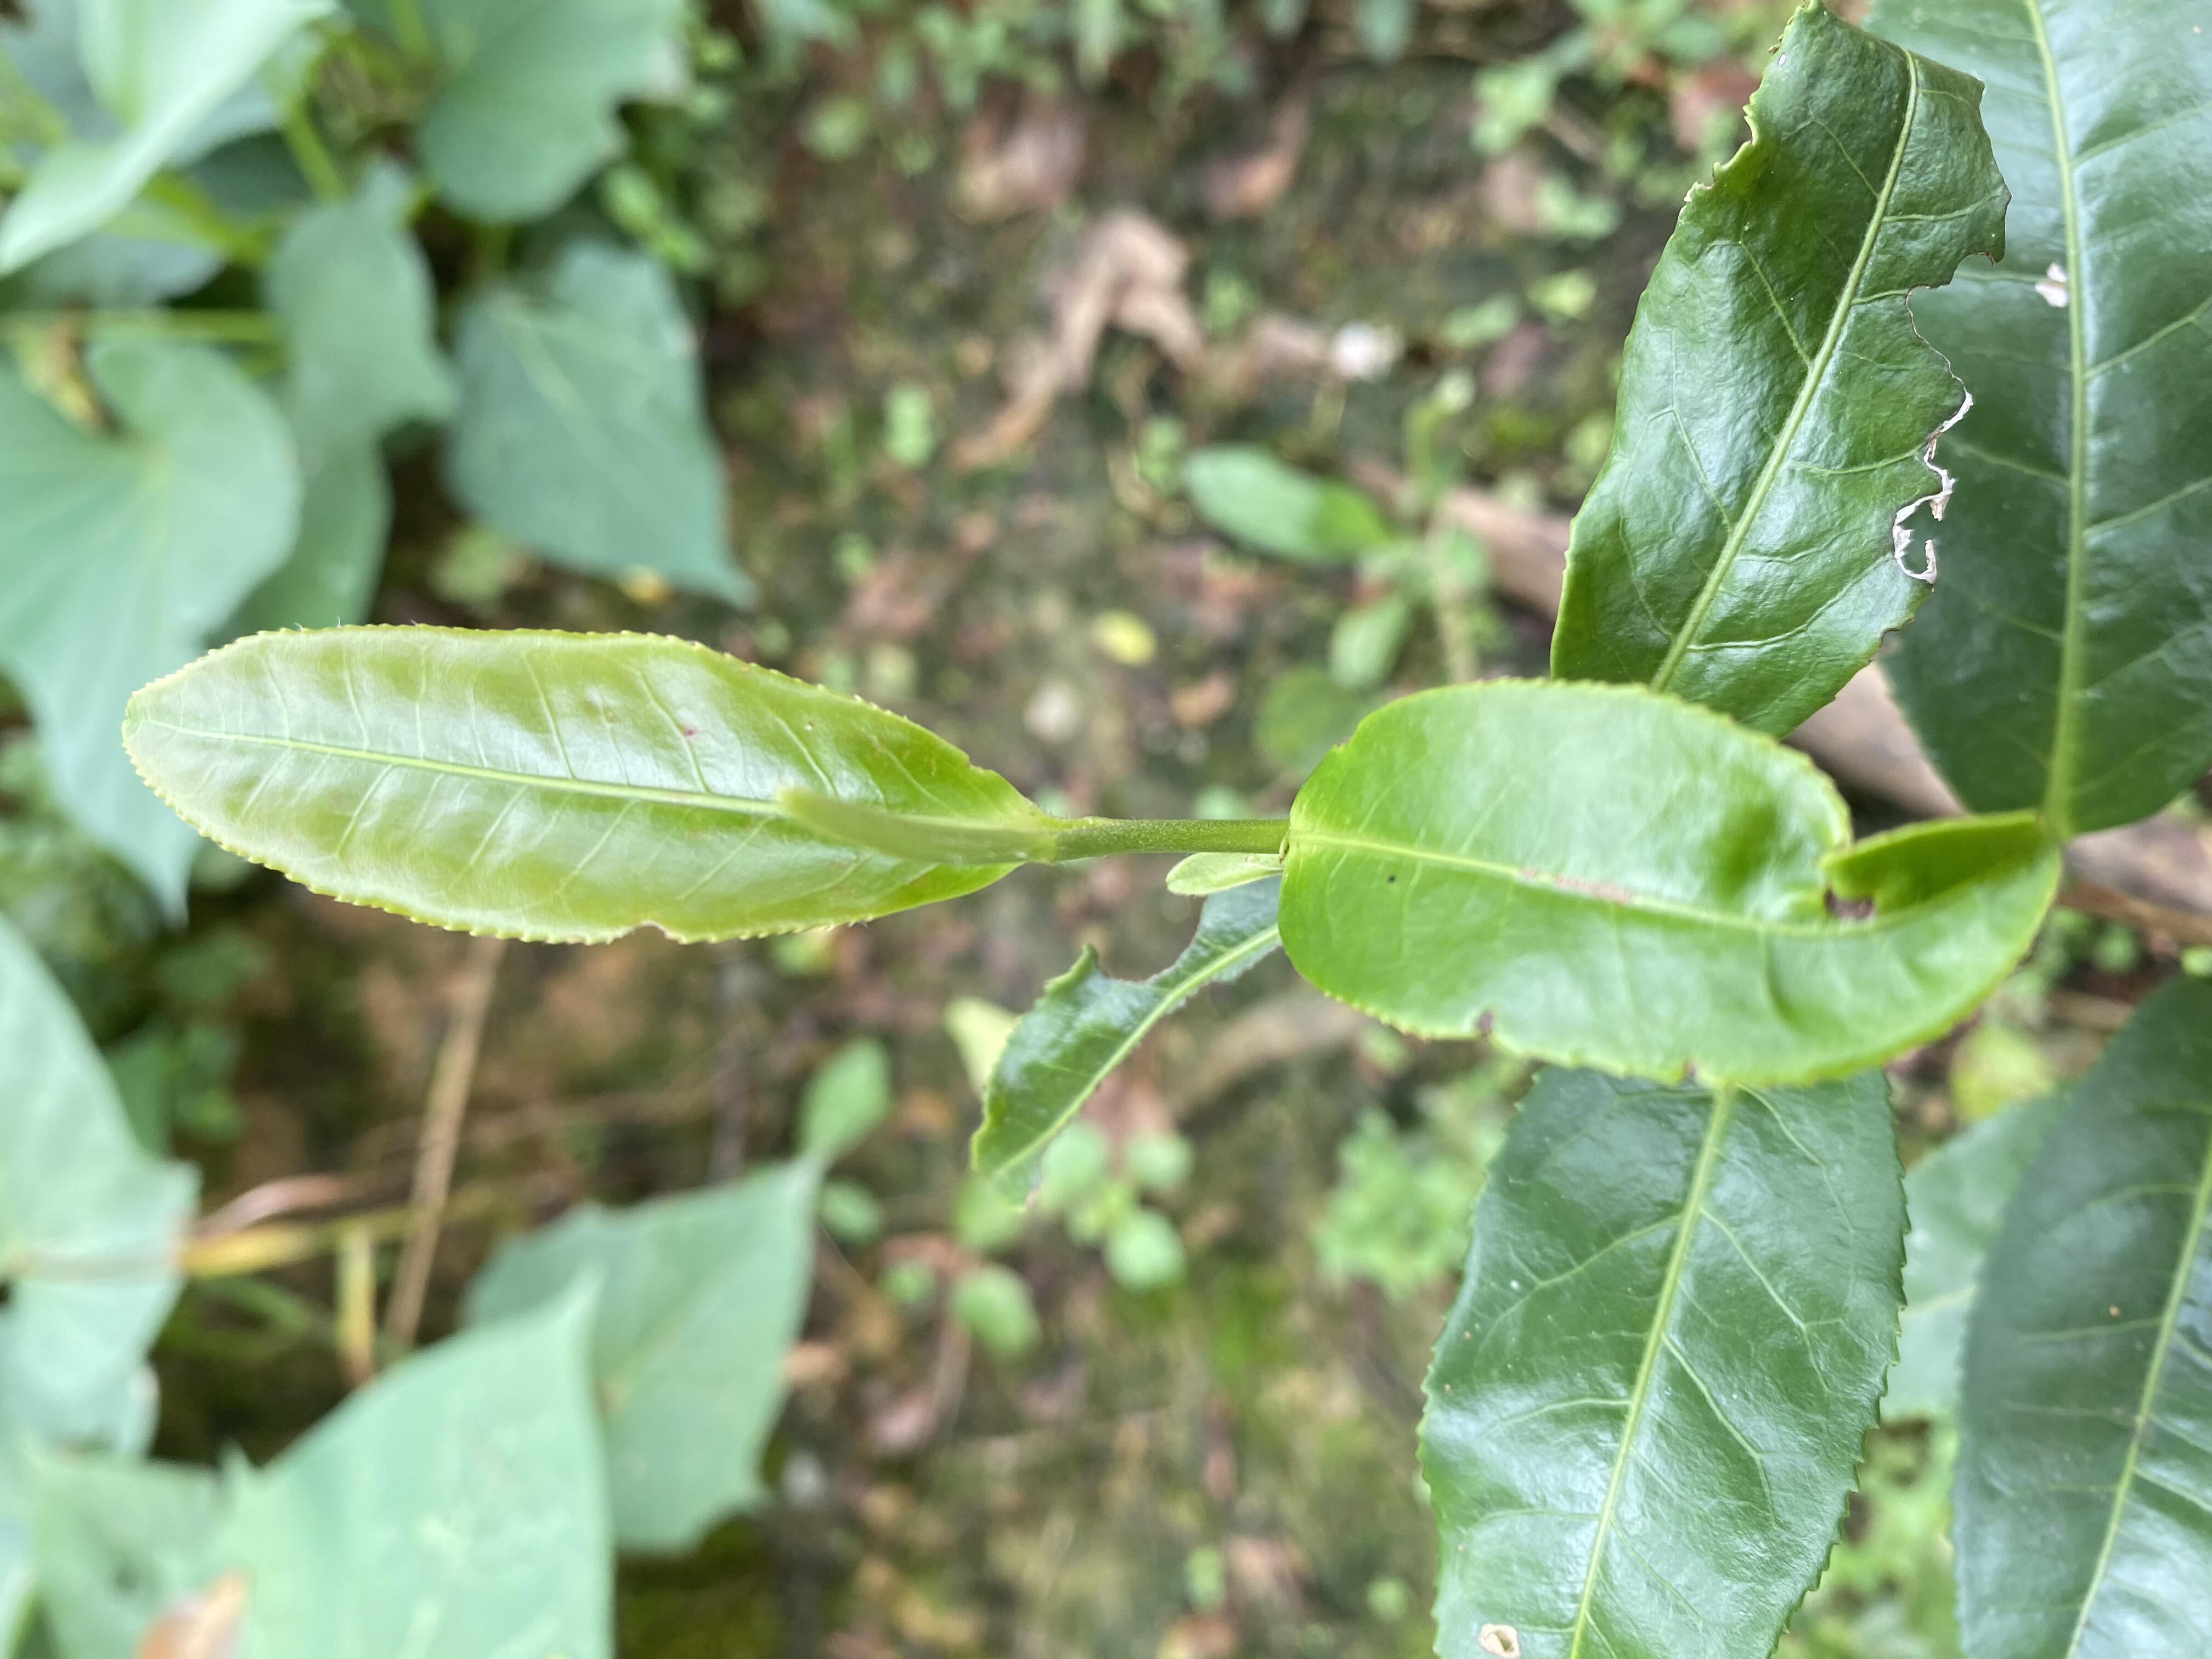chihuo_high: (1545, 3, 2012, 742), (970, 873, 1289, 1182)
chihuo_low: (118, 620, 1049, 946)
tanju_low: (1278, 676, 2066, 1091), (1416, 1065, 1909, 1656)
